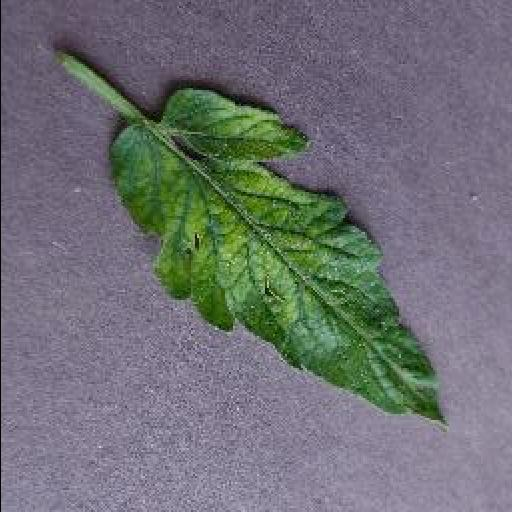Mosaic Virus: (106, 90, 452, 424)
